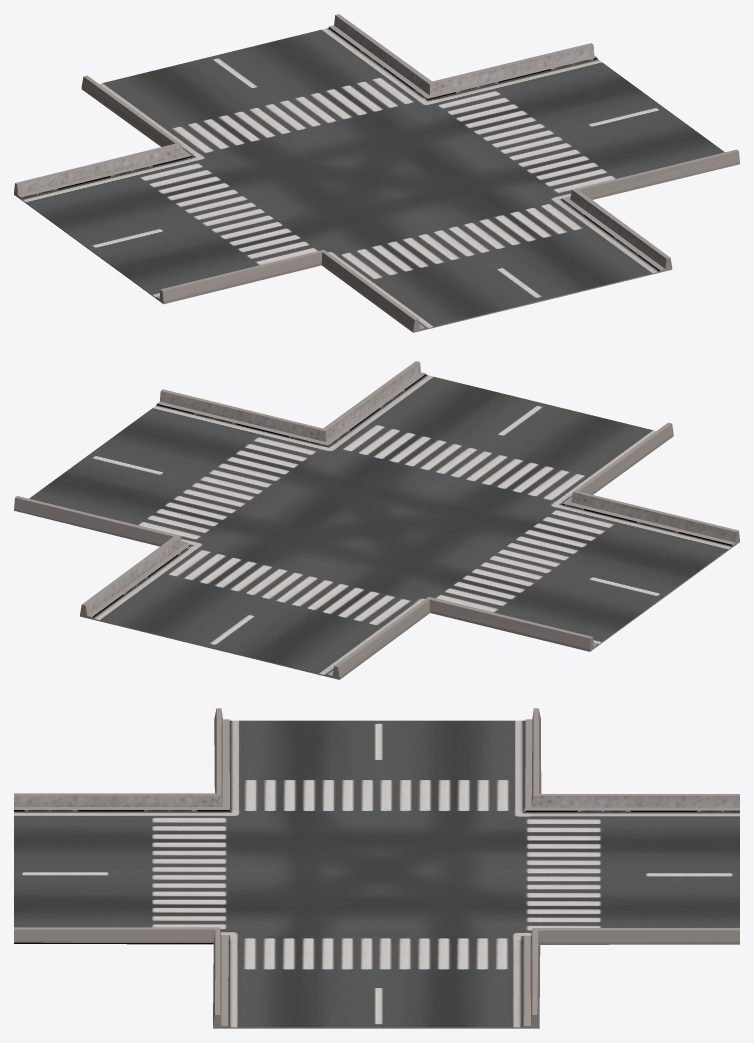
The model's file is Intersection.FBX.
The picture shows the model from 3 angles, top to bottom: view 1: azimuth 30°, elevation 25°; view 2: azimuth 150°, elevation 25°; view 3: azimuth 270°, elevation 25°; orthographic projection. The views are drawn at different scales.
Parts seen in each view (by area): view 1: Box005; view 2: Box005; view 3: Box005.
Boxes of the visible parts, x1,y1,x2,y2 form: Box005: (14,14,739,332); Box005: (14,361,739,679); Box005: (14,708,739,1028).
Size of the model in its own units: 134 by 2.78 by 135.
